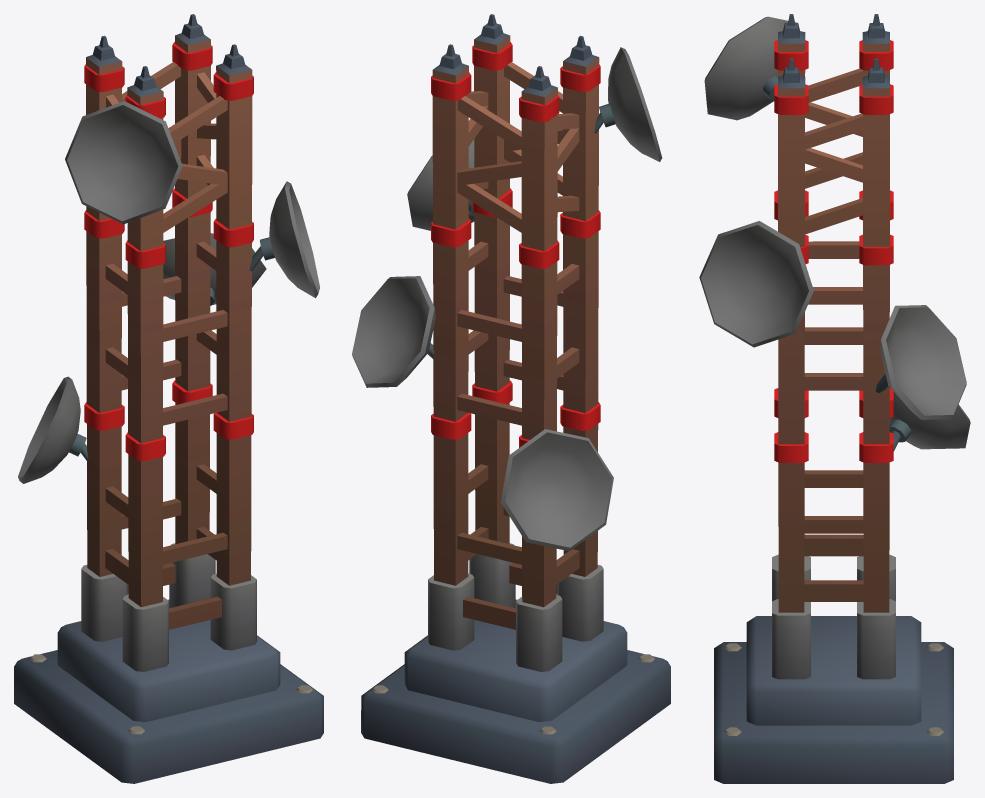
Rendered from SignalTower_1_C.fbx.
3 views of the same model, side by side, from view 1: azimuth 30°, elevation 25°; view 2: azimuth 150°, elevation 25°; view 3: azimuth 270°, elevation 25° (orthographic). The views are drawn at different scales.
Visible parts, largest first — view 1: SignalTower_1_C; view 2: SignalTower_1_C; view 3: SignalTower_1_C.
Boxes of the visible parts, bbox=[...] form: SignalTower_1_C: bbox=[14, 14, 323, 783]; SignalTower_1_C: bbox=[352, 14, 670, 783]; SignalTower_1_C: bbox=[699, 14, 970, 783].
Size of the model in its own units: 118 by 309 by 109.
